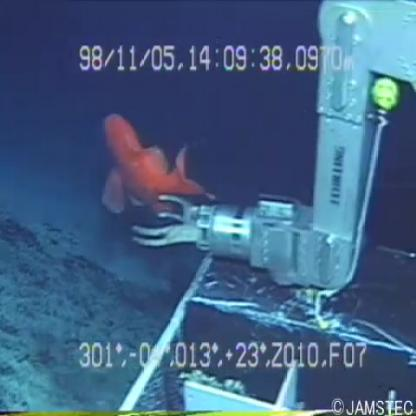Bio: (96, 107, 218, 219)
Rov: (128, 1, 415, 412)
